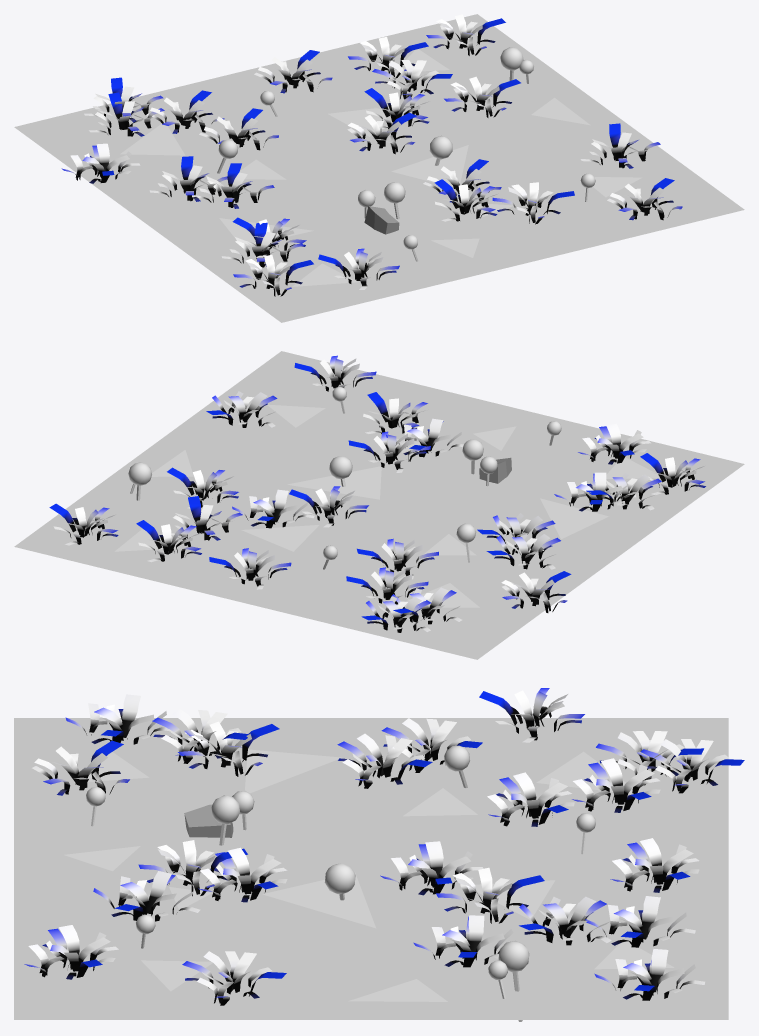
File: TILE_FIELDS_FLOWERFIELD.fbx
3 renders of one model, top to bottom at view 1: azimuth 30°, elevation 25°; view 2: azimuth 150°, elevation 25°; view 3: azimuth 270°, elevation 25°, orthographic. The views are drawn at different scales.
Visible parts, largest first — view 1: FLOOR.011, Grass, rock; view 2: FLOOR.011, Grass, flower.005; view 3: FLOOR.011, Grass, rock, flower.005, flower.002, flower.004, flower.006.
Boxes of the visible parts, box(x1,y1,x2,y2) form: FLOOR.011: box(14, 14, 744, 322); Grass: box(61, 14, 682, 296); rock: box(364, 206, 399, 234); FLOOR.011: box(14, 351, 744, 659); Grass: box(49, 355, 705, 632); flower.005: box(128, 462, 151, 500); FLOOR.011: box(14, 718, 728, 1019); Grass: box(24, 688, 744, 1005); rock: box(184, 804, 233, 837); flower.005: box(498, 940, 529, 1021); flower.002: box(324, 863, 355, 900); flower.004: box(211, 795, 240, 845); flower.006: box(444, 745, 469, 787).
Bounding box in the file's own units: 209 × 27.11 × 205.
